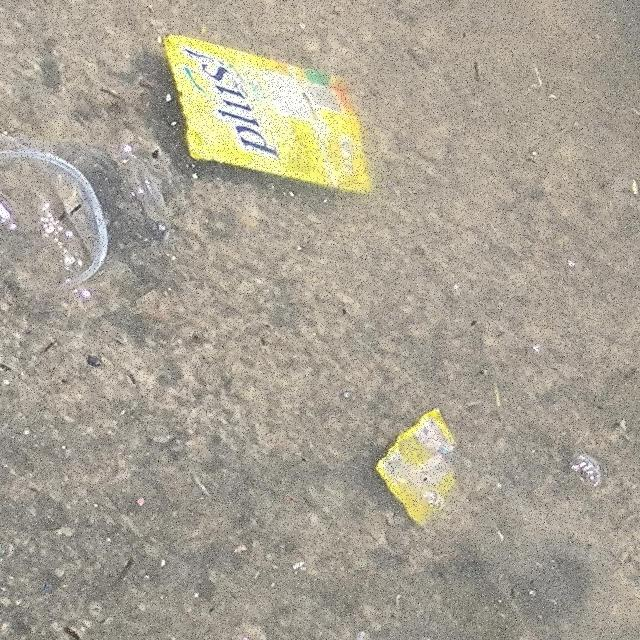plastic_waste: (162, 34, 376, 196), (1, 135, 176, 295), (376, 407, 461, 527)
